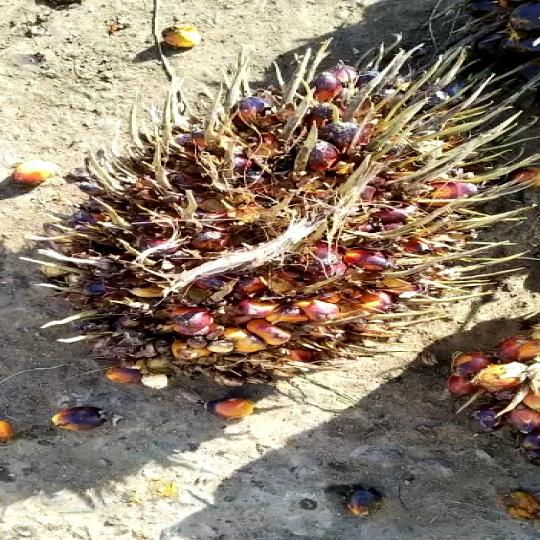terlalu masak: (0, 38, 540, 422)
